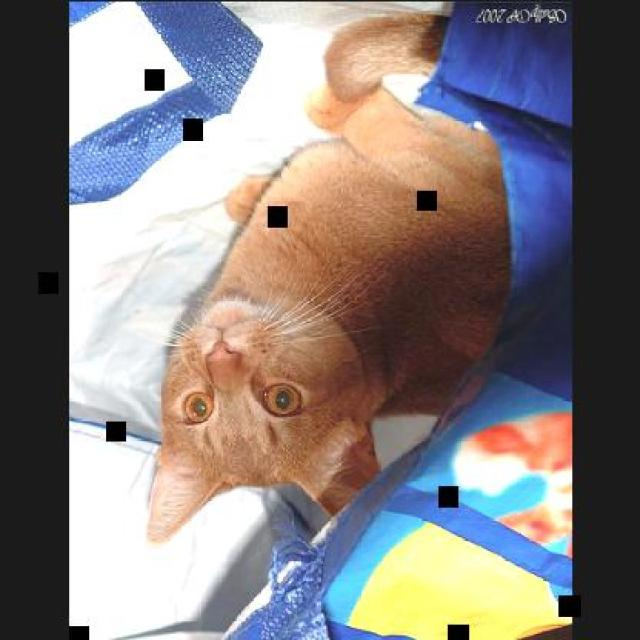unauthorized: (143, 4, 512, 544)
